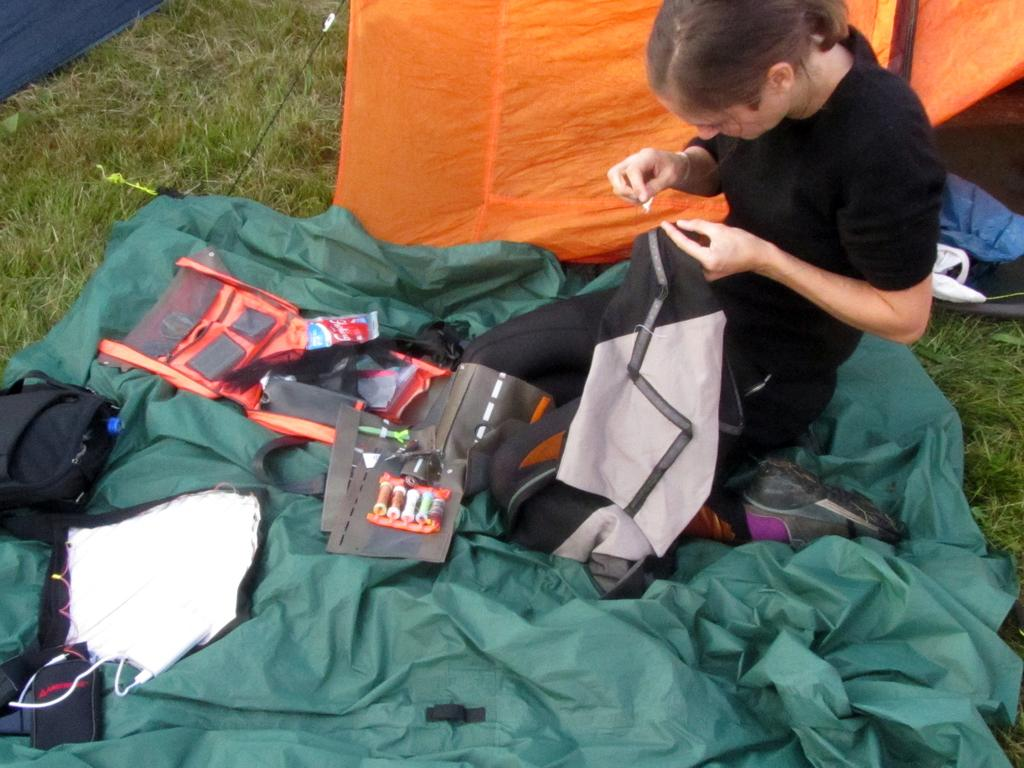Luggage-and-bags: (0, 355, 136, 537)
